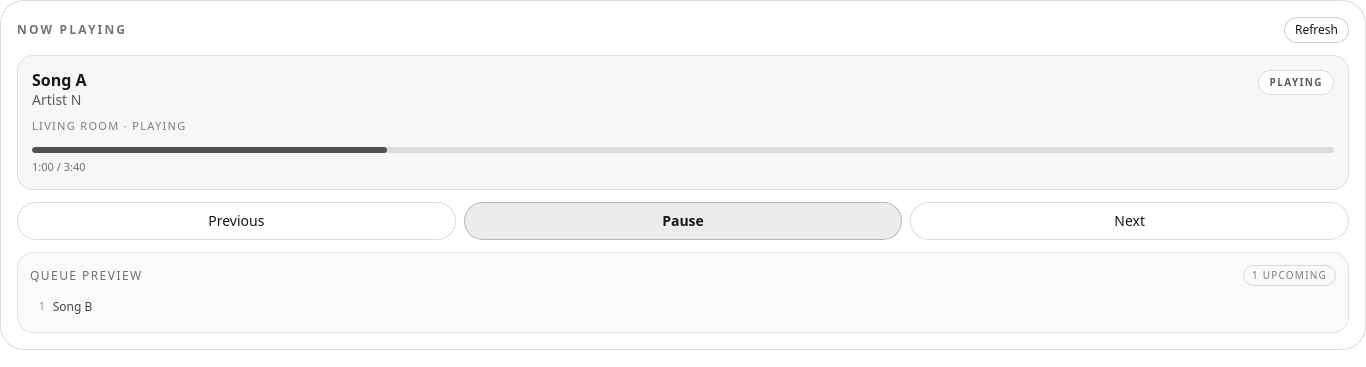
Test: NowPlayingShellCard › runs queue navigation control and refreshes track state
Expected: the text "Song A" is shown, 32,69 -> 87,91
Click the button "Next".
click(1130, 221)  # box 910,202 -> 1349,240
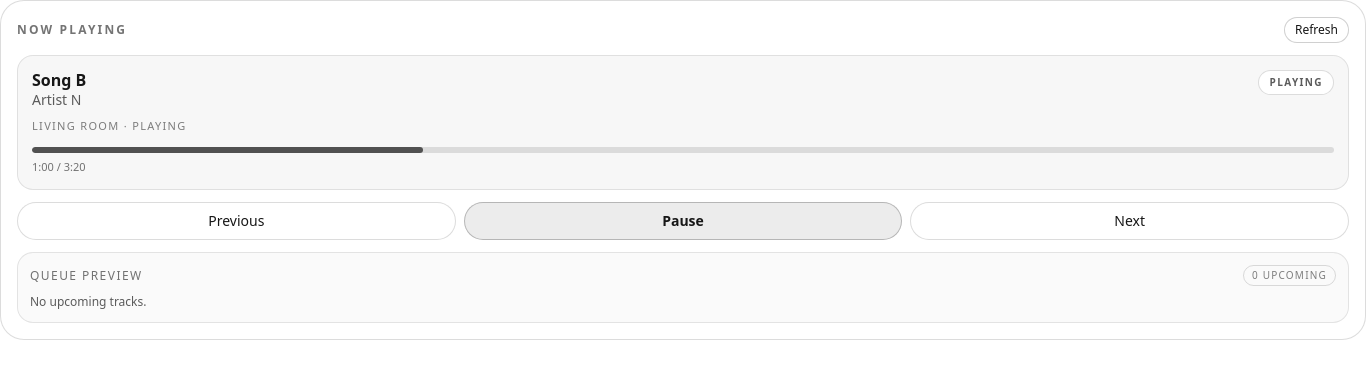
Now the text "Song B" is shown, box 32,69 -> 86,91
